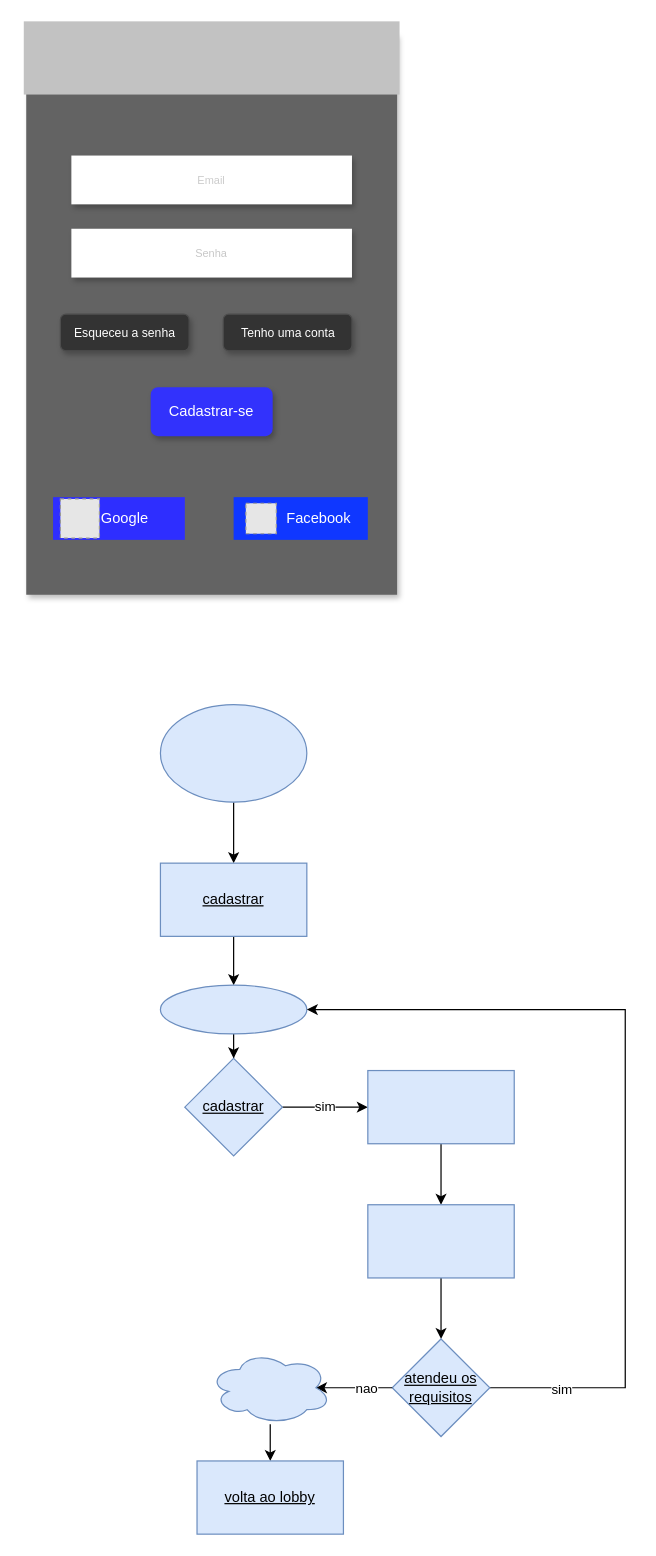
Some shapes in this 656 by 1556 pixel diagram are drawn without their labels. Grey dashed boxes stand in for pictures. The centre of each missing label's shape, as x and y in pixels:
"Análisar fornecedor" goes at point (440, 1241).
"CADASTRO" goes at point (211, 57).
"inicio" goes at point (233, 752).
"lobby" goes at point (440, 1106).
"login" goes at point (233, 1009).
"mensagem de erro" goes at point (269, 1387).
